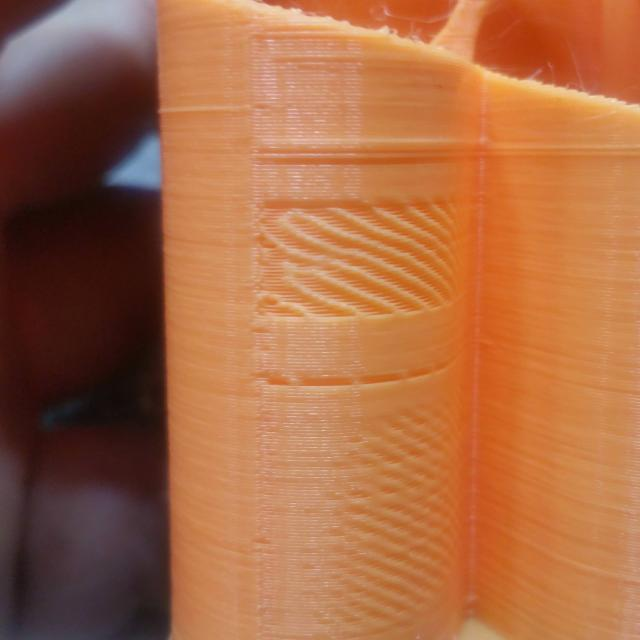cracks: (257, 188, 471, 322), (254, 355, 470, 404)
